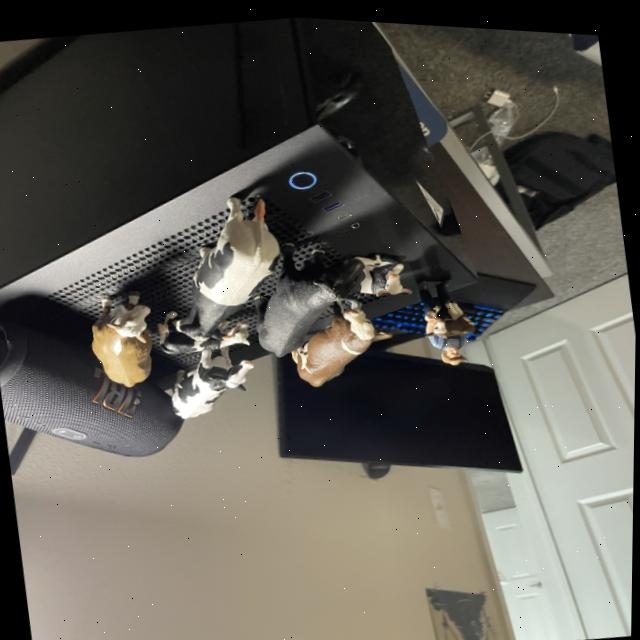cow: (221, 193, 394, 362), (169, 181, 297, 354), (279, 284, 394, 390), (158, 328, 263, 424), (91, 289, 156, 387), (158, 302, 252, 352), (356, 246, 413, 294), (431, 294, 477, 333)
person: (430, 328, 468, 360)
